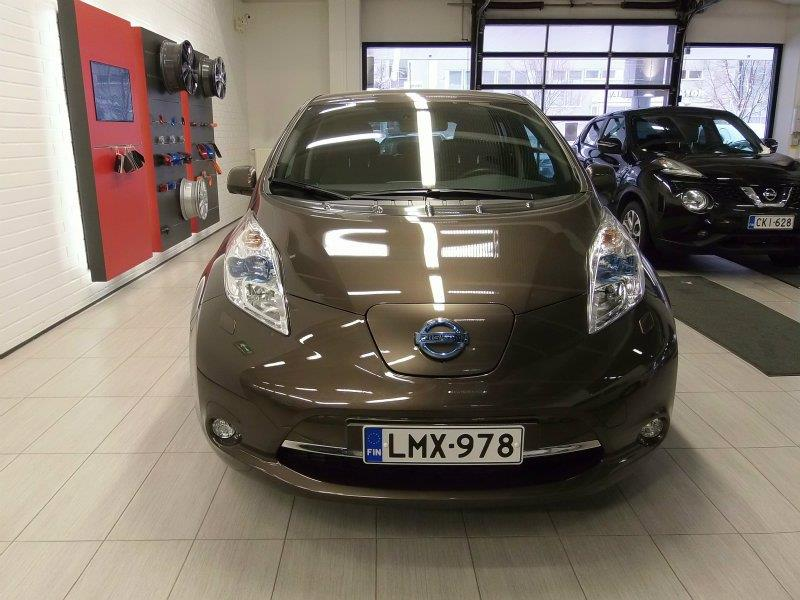license: (359, 424, 520, 468)
